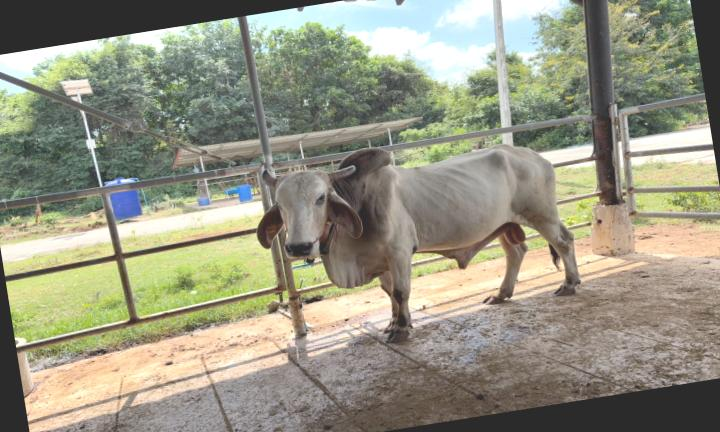Brahman: (257, 144, 580, 341)
